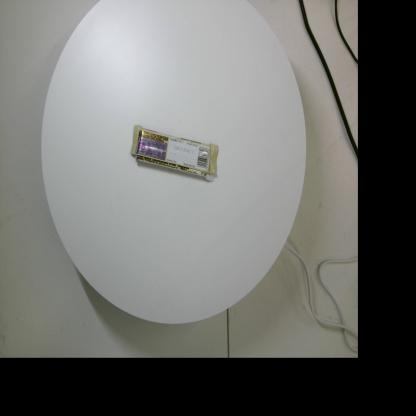Chocolate: (130, 124, 219, 182)
